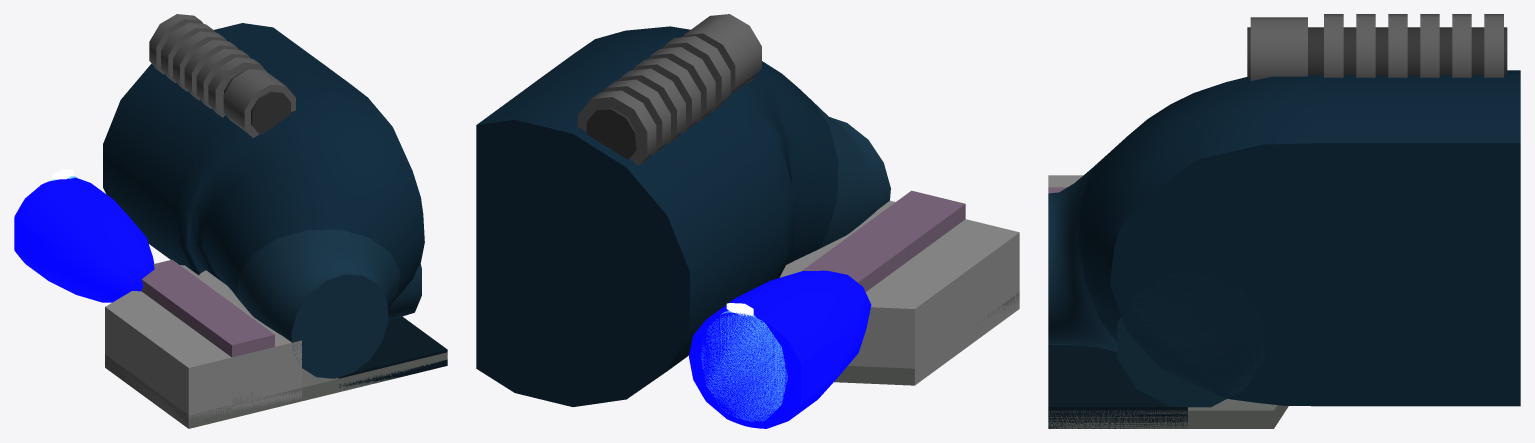
Rendered from newshb-79.glb.
The picture shows the model from 3 angles, left to right: view 1: azimuth 30°, elevation 25°; view 2: azimuth 150°, elevation 25°; view 3: azimuth 270°, elevation 25°; orthographic projection. The views are drawn at different scales.
Parts seen in each view (by area): view 1: newshb-79; view 2: newshb-79; view 3: newshb-79.
Boxes of the visible parts, x1=… form: newshb-79: x1=14, y1=14, x2=447, y2=428; newshb-79: x1=476, y1=14, x2=1019, y2=428; newshb-79: x1=1048, y1=14, x2=1520, y2=428.
Bounding box in the file's own units: 2 × 1.87 × 2.33.
